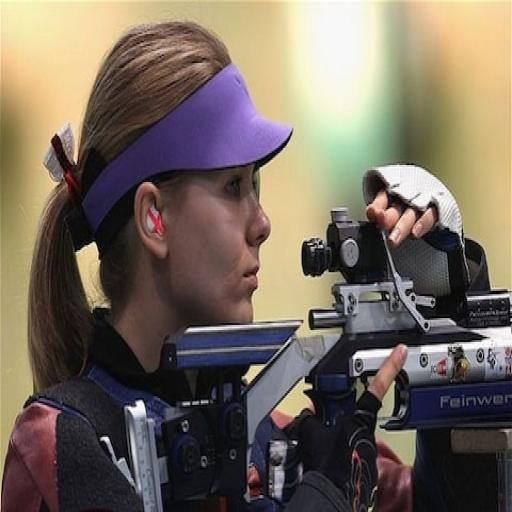shooting: (20, 62, 500, 476)
